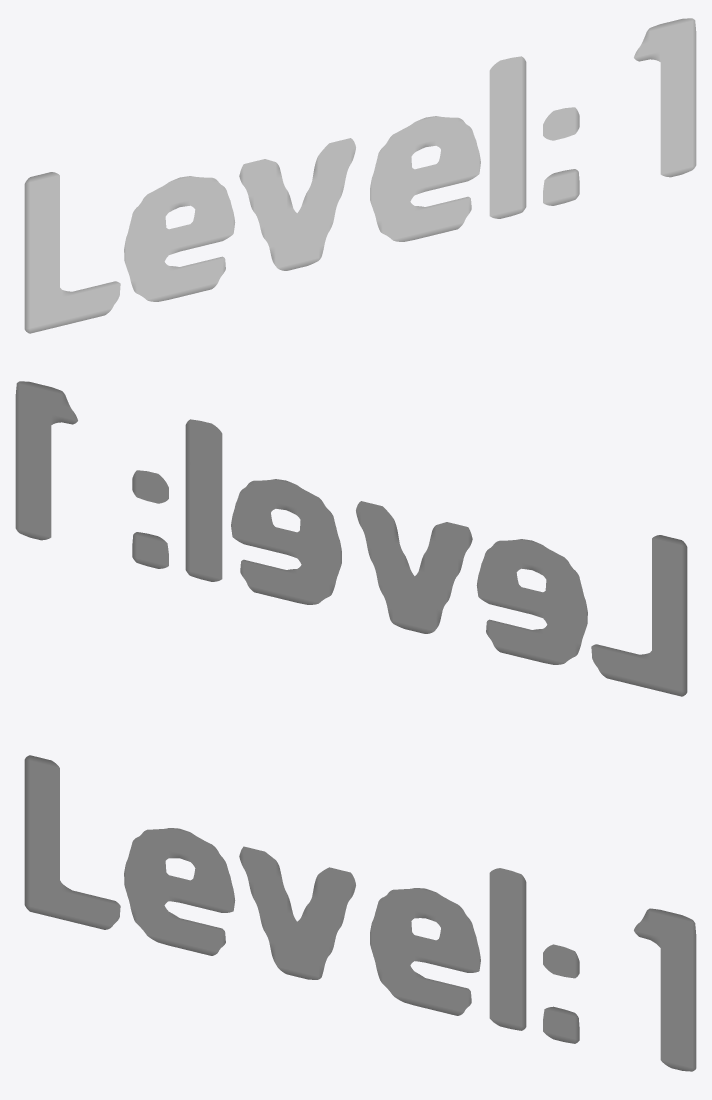
File: Mesh_145_9230eca7__Watford_DB-20_0f74cee7_9c9708.obj
3 views of the same model, one above another, from view 1: azimuth 30°, elevation 25°; view 2: azimuth 150°, elevation 25°; view 3: azimuth 330°, elevation 25° (orthographic).
Size of the model in its own units: 32 by 8 by 0.
1 material, 1 textured.
